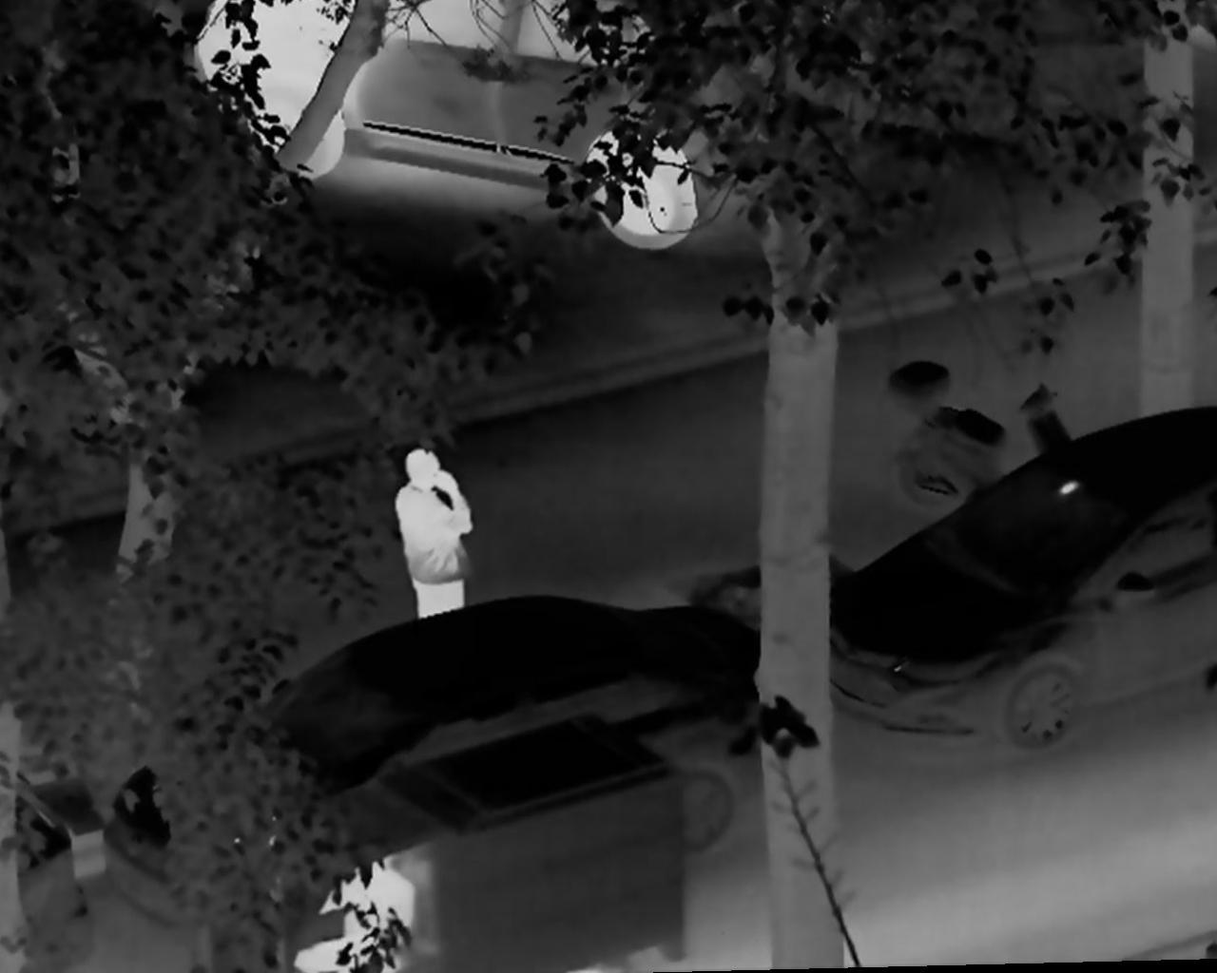person: (284, 847, 428, 973), (388, 442, 473, 626)
